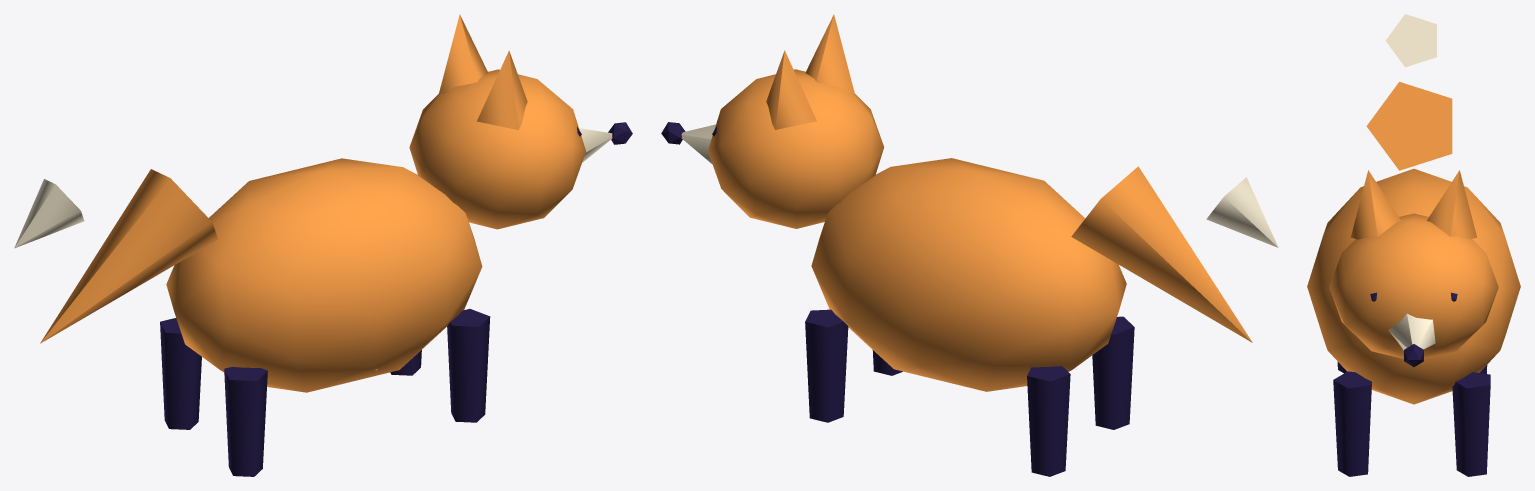
The model's file is sample.glb.
The picture shows the model from 3 angles, left to right: view 1: azimuth 30°, elevation 25°; view 2: azimuth 150°, elevation 25°; view 3: azimuth 270°, elevation 25°; orthographic projection. The views are drawn at different scales.
Parts seen in each view (by area): view 1: Body, Head, Tail, LegBL, LegFL, LegBR, TailTip, EarL, EarR; view 2: Body, Head, Tail, LegBR, LegFR, LegBL, TailTip, EarR, EarL, Snout; view 3: Head, Body, Tail, LegFL, LegFR, TailTip, EarL, EarR, Snout, Nose.
Part boxes in pixels (left/top/right/bottom): Body: left=166, top=158, right=482, bottom=392; Head: left=409, top=69, right=585, bottom=229; Tail: left=40, top=169, right=218, bottom=343; LegBL: left=224, top=366, right=267, bottom=476; LegFL: left=447, top=309, right=490, bottom=422; LegBR: left=160, top=318, right=201, bottom=429; TailTip: left=14, top=179, right=84, bottom=248; EarL: left=477, top=50, right=527, bottom=130; EarR: left=439, top=14, right=488, bottom=93; Body: left=811, top=158, right=1126, bottom=391; Head: left=708, top=69, right=884, bottom=228; Tail: left=1071, top=166, right=1252, bottom=342; LegBR: left=1027, top=366, right=1070, bottom=476; LegFR: left=805, top=309, right=848, bottom=422; LegBL: left=1092, top=316, right=1134, bottom=429; TailTip: left=1206, top=177, right=1278, bottom=247; EarR: left=766, top=50, right=816, bottom=129; EarL: left=805, top=14, right=854, bottom=93; Snout: left=681, top=124, right=715, bottom=163; Head: left=1329, top=213, right=1498, bottom=358; Body: left=1307, top=168, right=1520, bottom=404; Tail: left=1366, top=82, right=1452, bottom=170; LegFL: left=1333, top=371, right=1371, bottom=476; LegFR: left=1452, top=372, right=1490, bottom=476; TailTip: left=1385, top=14, right=1436, bottom=67; EarL: left=1351, top=170, right=1400, bottom=239; EarR: left=1427, top=170, right=1476, bottom=239; Snout: left=1388, top=313, right=1435, bottom=350; Nose: left=1404, top=344, right=1423, bottom=366.
Bounding box in the file's own units: 2.77 × 1.5 × 0.9.
